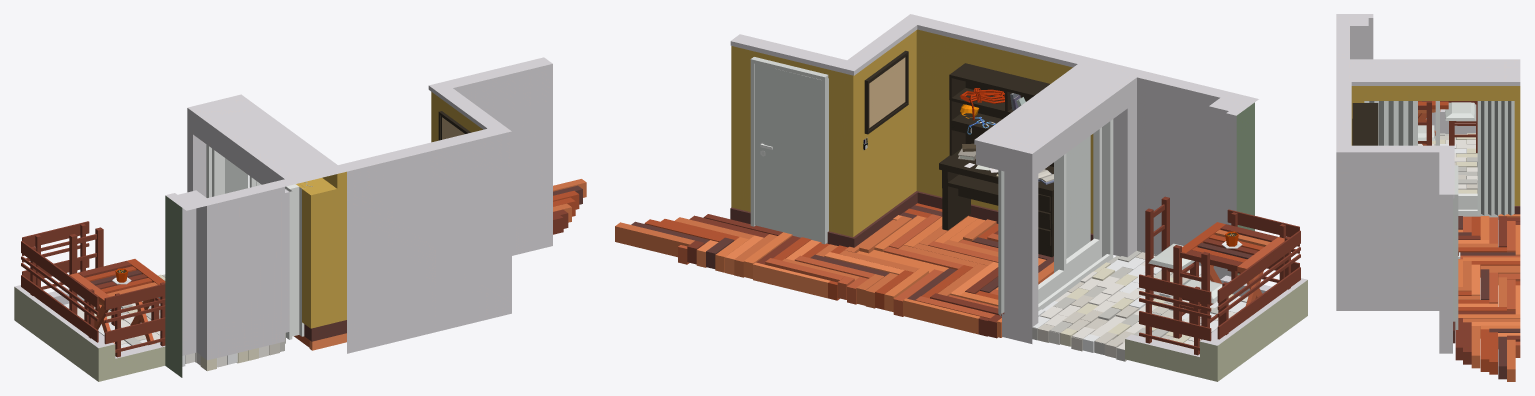
Rendered from corridorOptimized-transformed.glb.
3 renders of one model, left to right at view 1: azimuth 30°, elevation 25°; view 2: azimuth 150°, elevation 25°; view 3: azimuth 270°, elevation 25°, orthographic. The views are drawn at different scales.
Visible parts, largest first — view 1: ATomarColor; view 2: ATomarColor; view 3: ATomarColor.
Boxes of the visible parts, box(x1,y1,x2,y2) form: ATomarColor: box(14, 57, 586, 381); ATomarColor: box(615, 14, 1307, 381); ATomarColor: box(1336, 14, 1520, 381).
Size of the model in its own units: 8.06 by 2.49 by 2.61.
3 materials, 3 textured.
